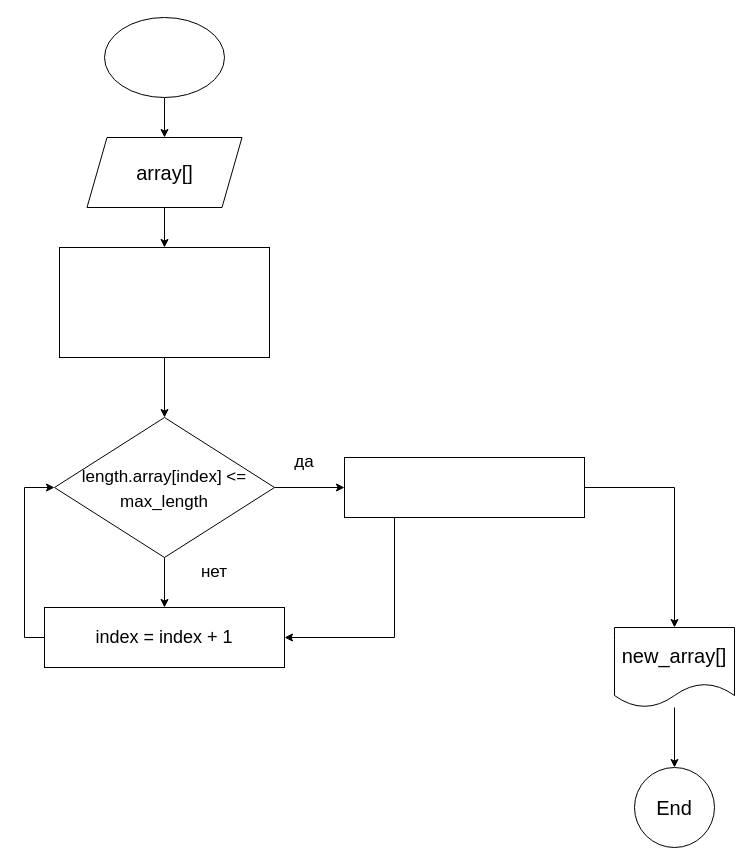
This 752x865 diagram has some shape labels left out. The box of each missing label's shape, as (x1, y1, x2, y2) in pixels:
max_length <= 3 new_array = [] index = 0 size = array.length - 1: (58, 246, 270, 358)
new_array.append(array[index]): (344, 456, 584, 518)
Start: (104, 16, 224, 98)
